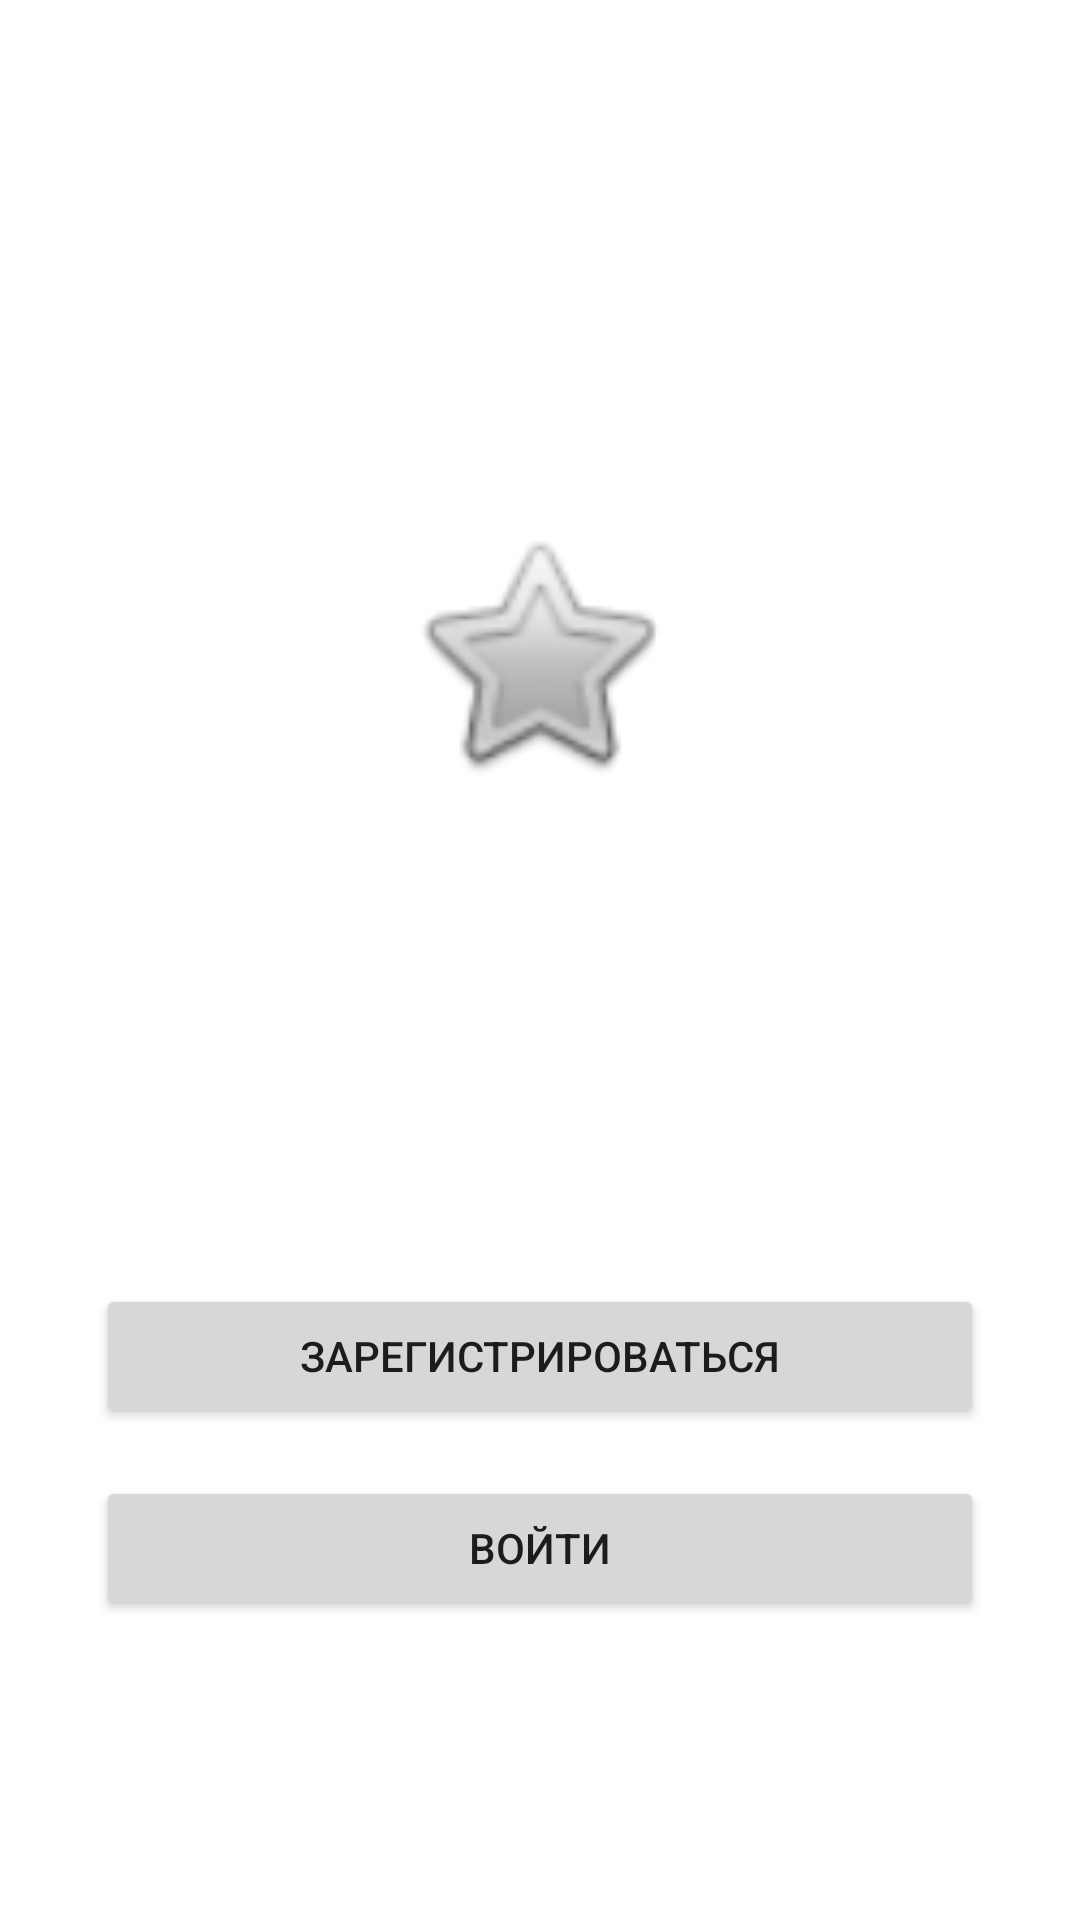

Icon click points for this 1080px×1920px phone screenshot, format (x=x, y=y):
star off: (x=540, y=656)
